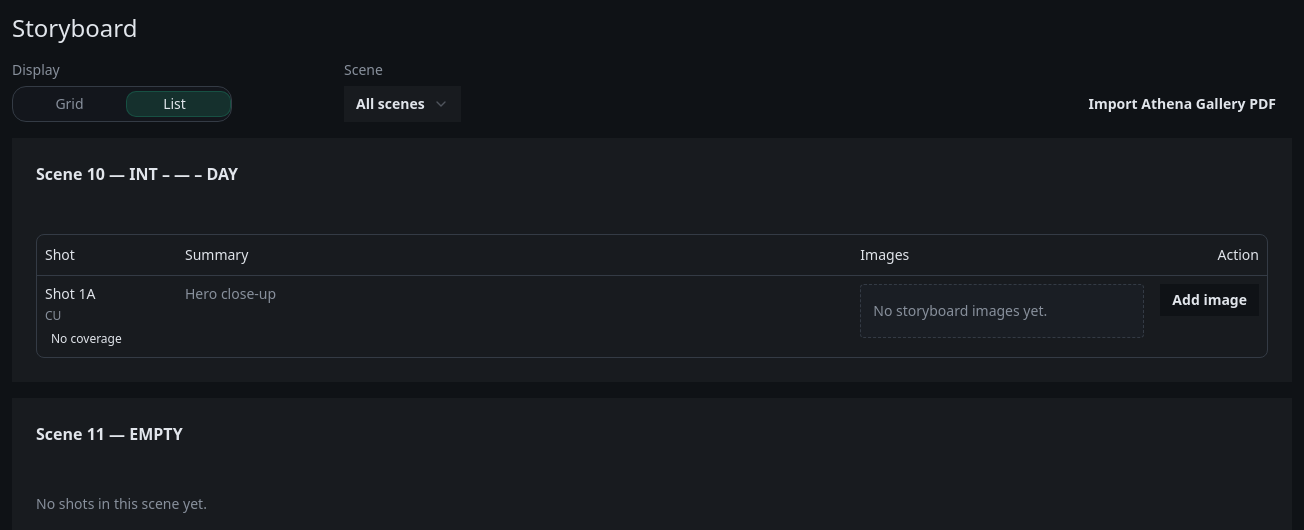
Test: StoryboardPage › shows empty filtered state when selected scene has no shots
The image size is (1304, 530).
Check: the text "Scene 10 — INT – — – DAY" is shown, box [36, 163, 238, 185]
Click the dropdown: (402,104) [344, 86, 461, 122]
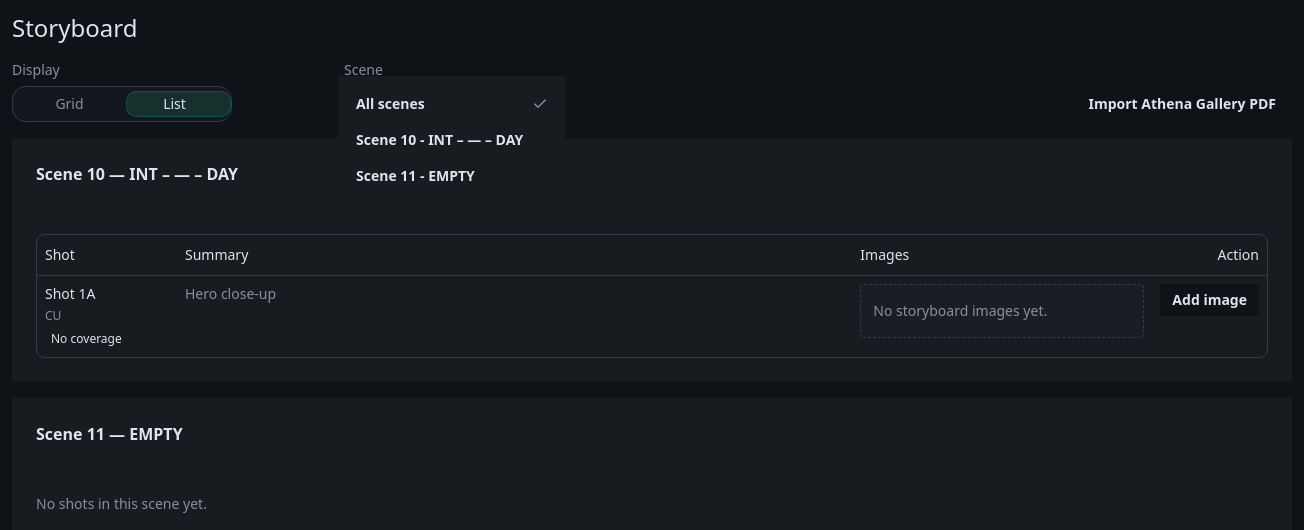
Click the option "Scene 11 - EMPTY": (415,176) [356, 166, 475, 185]
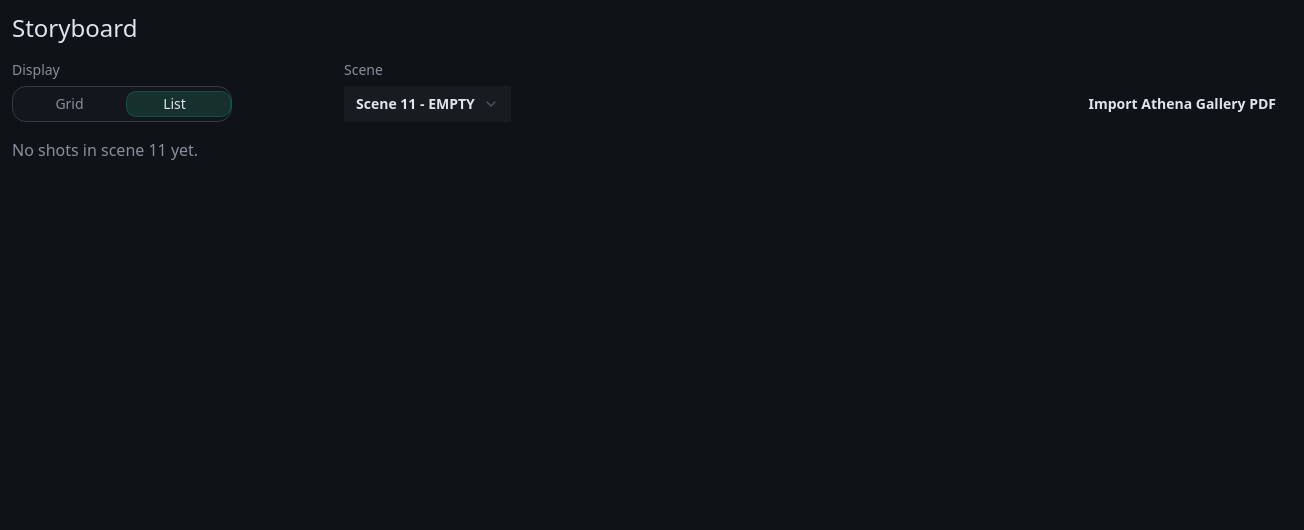
Check: the text "No shots in scene 11 yet." is shown, box [12, 139, 198, 161]
